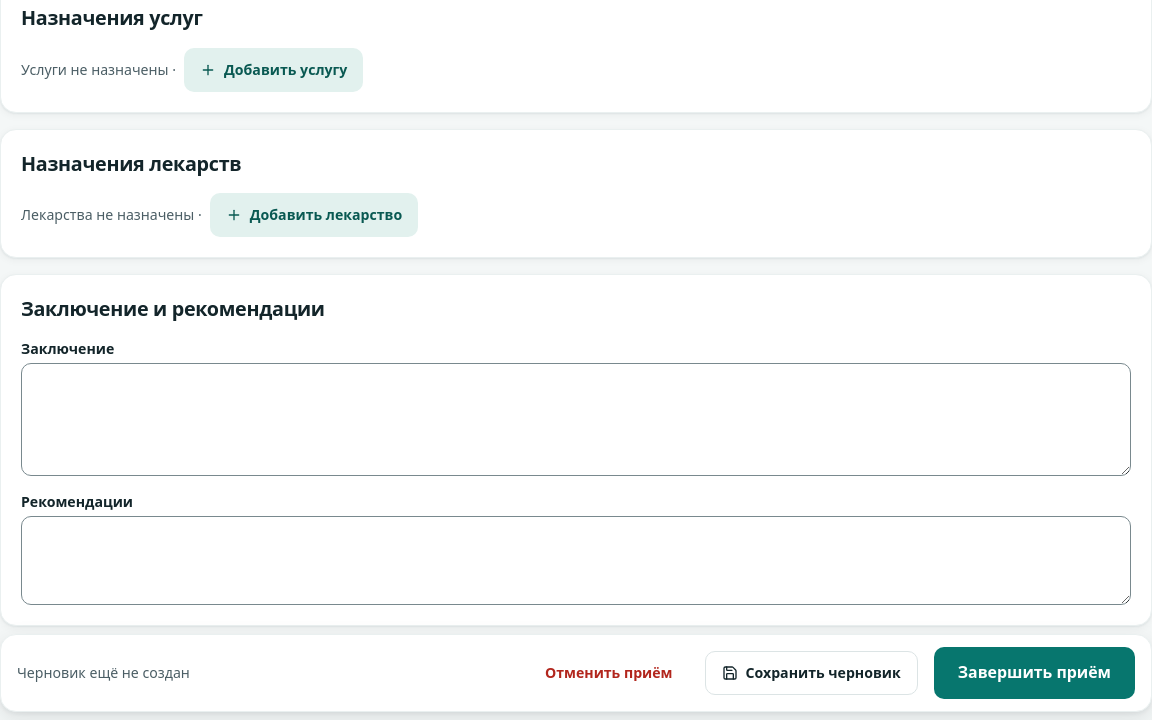
EncounterCompleteForm leaving the page (A8) › should say the draft is not being saved when storage is unavailable
(page scrolled)
In the text box labelled "Заключение": [576, 419] box [21, 363, 1131, 476], type "ОРВИ"
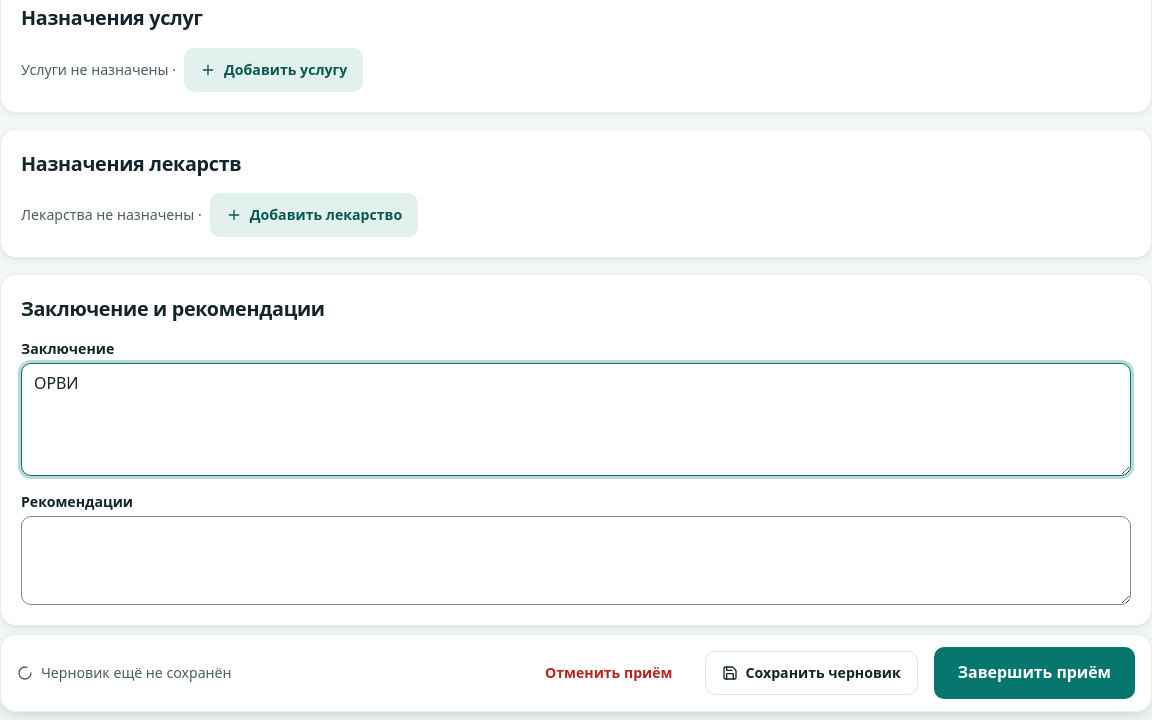
Click the button "Сохранить черновик": [811, 673] box [704, 651, 918, 695]
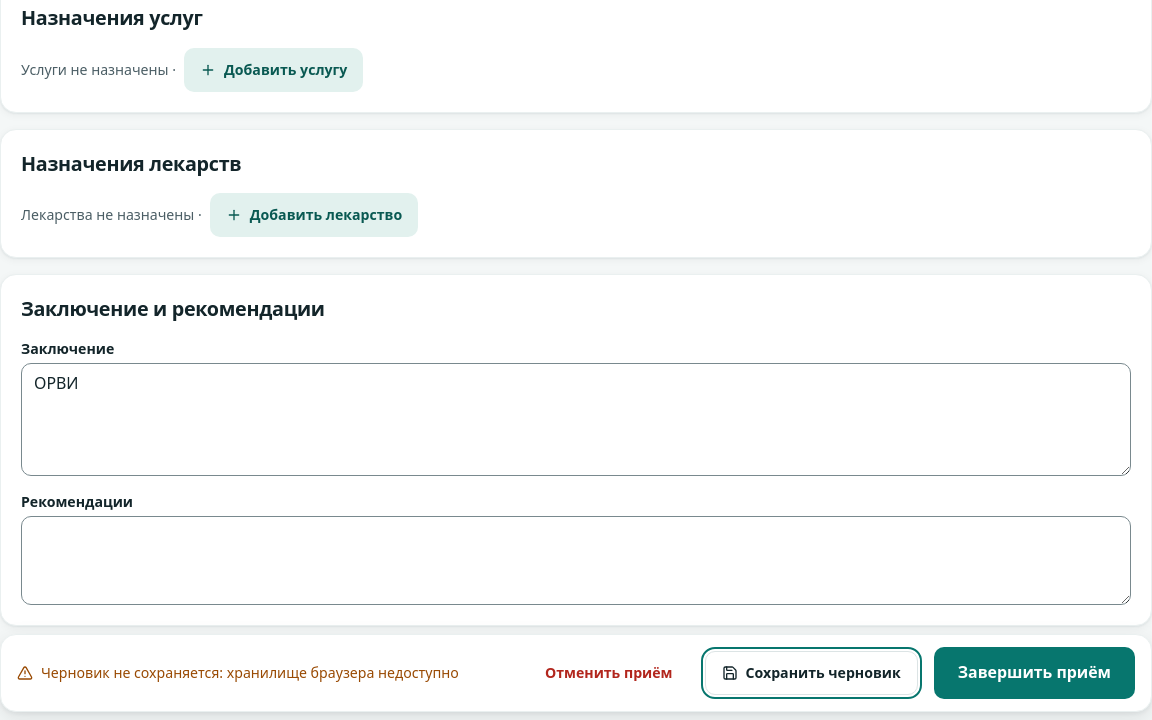
Result: the text "Черновик не сохраняется: хранилище браузера недоступно" is shown at [17, 663, 513, 683]
